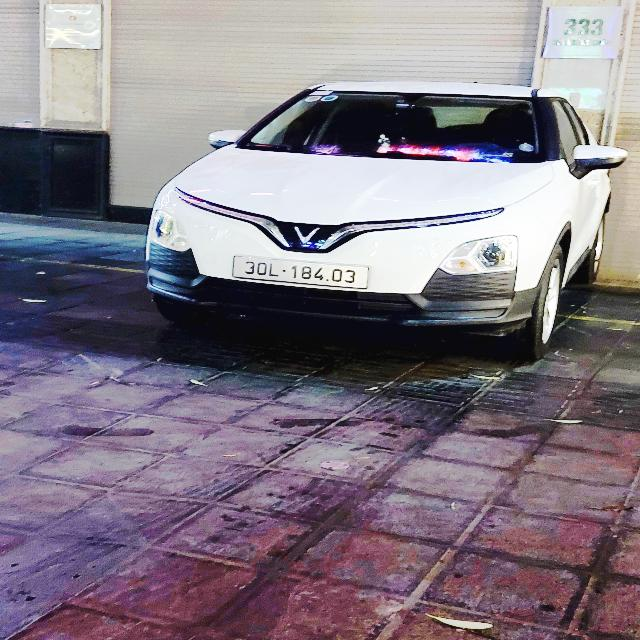license_plate: (229, 252, 374, 294)
